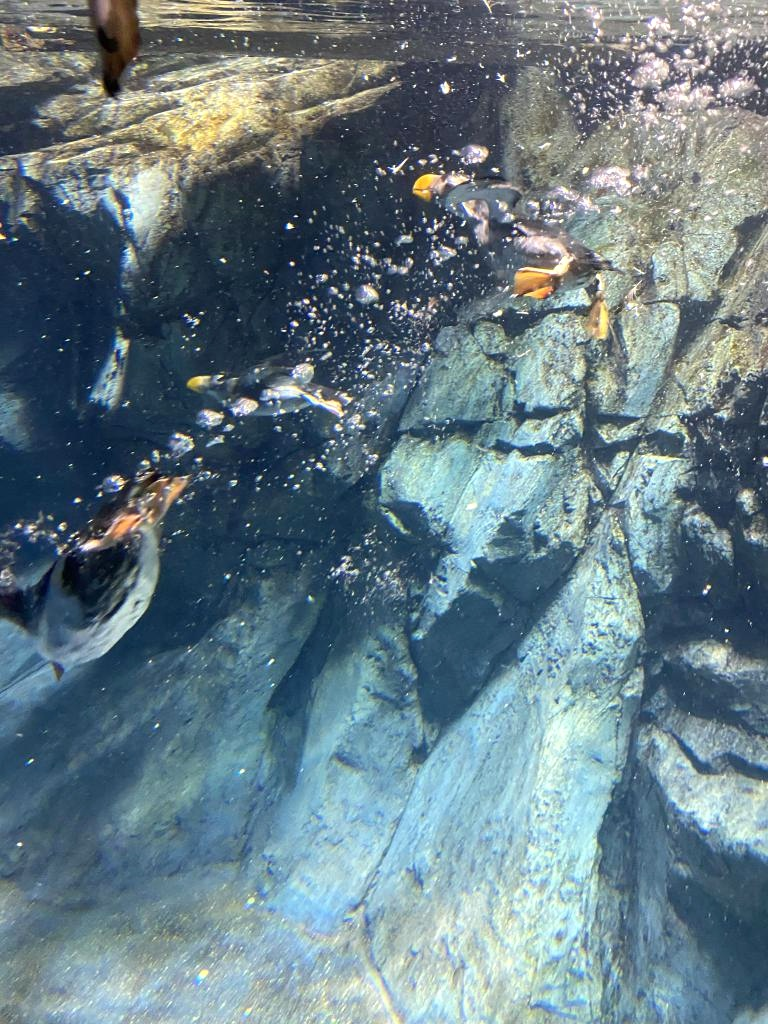puffin: (403, 154, 645, 342), (6, 462, 192, 676), (179, 360, 355, 422)
